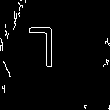L_S: (41, 29, 69, 81)
